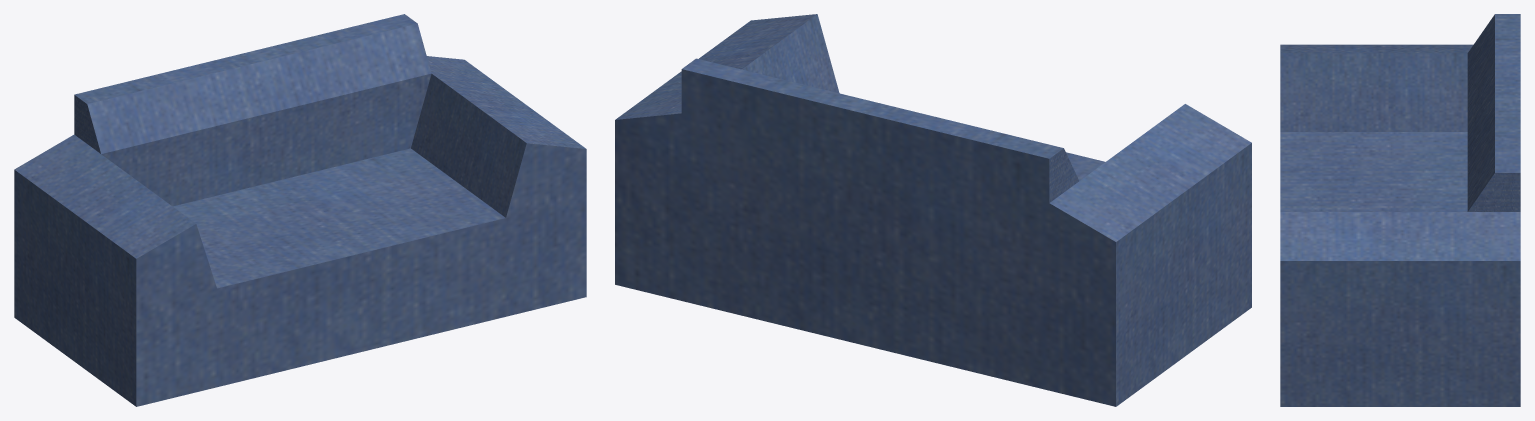
File: Couch_Blue.fbx
3 views of the same model, side by side, from view 1: azimuth 30°, elevation 25°; view 2: azimuth 150°, elevation 25°; view 3: azimuth 270°, elevation 25° (orthographic). The views are drawn at different scales.
Parts seen in each view (by area): view 1: Couch_Blue_1; view 2: Couch_Blue_1; view 3: Couch_Blue_1.
Boxes of the visible parts, <box> form: Couch_Blue_1: <box>14,14,586,406</box>; Couch_Blue_1: <box>615,14,1251,406</box>; Couch_Blue_1: <box>1280,14,1520,406</box>.
Size of the model in its own units: 233 by 103 by 109.
